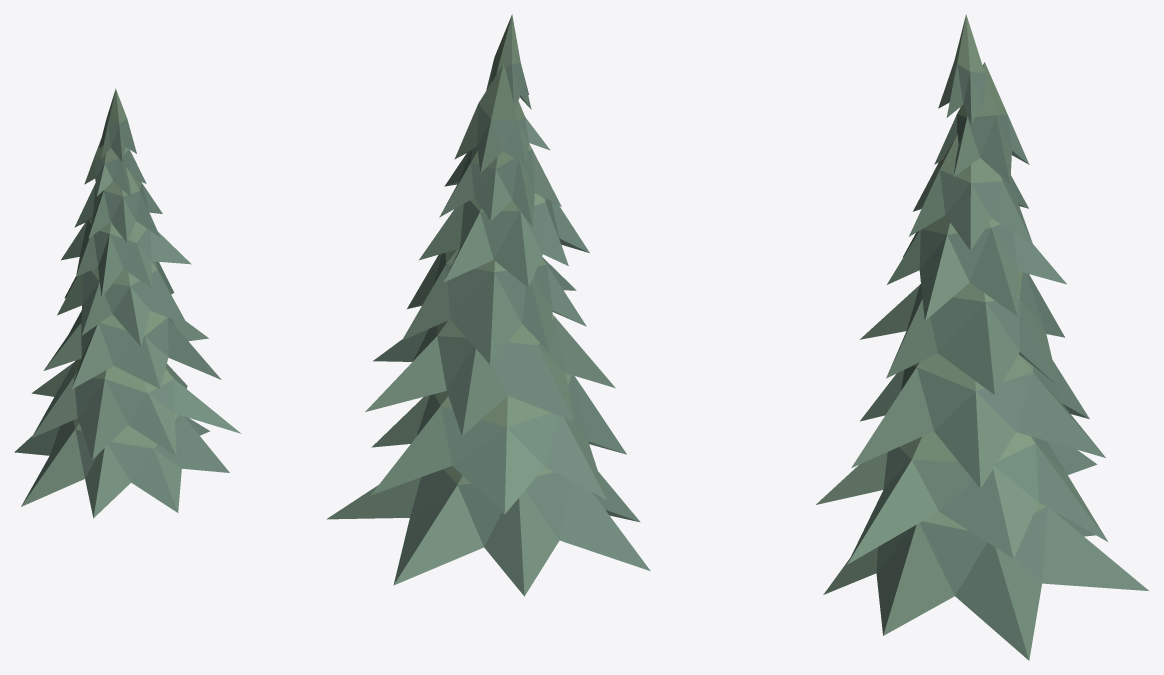
The model's file is ShorePine1_leaf.glb.
3 renders of one model, left to right at view 1: azimuth 30°, elevation 25°; view 2: azimuth 150°, elevation 25°; view 3: azimuth 270°, elevation 25°, orthographic. The views are drawn at different scales.
Parts seen in each view (by area): view 1: ShorePine1_leaf; view 2: ShorePine1_leaf; view 3: ShorePine1_leaf.
Boxes of the visible parts, bbox=[...] form: ShorePine1_leaf: bbox=[14, 88, 241, 518]; ShorePine1_leaf: bbox=[326, 14, 650, 596]; ShorePine1_leaf: bbox=[816, 14, 1148, 660].
Size of the model in its own units: 12.23 by 25.31 by 11.66.
